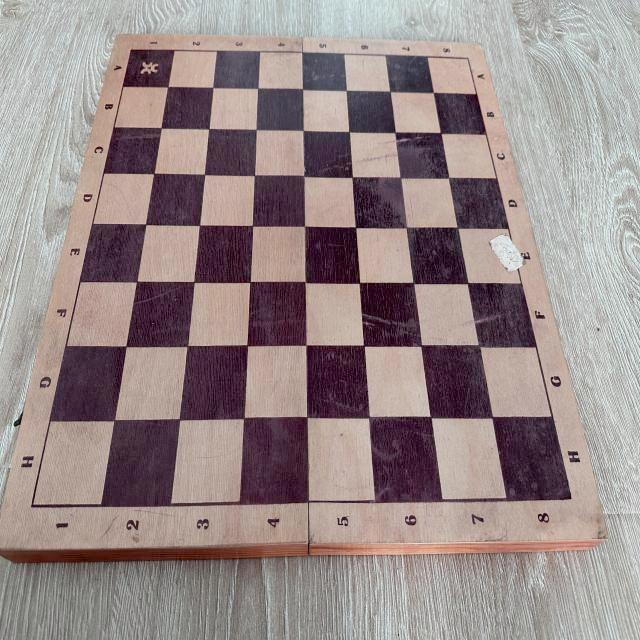chess-table-corners: (23, 492, 41, 518), (562, 488, 580, 508), (462, 49, 474, 68), (125, 42, 137, 58)
